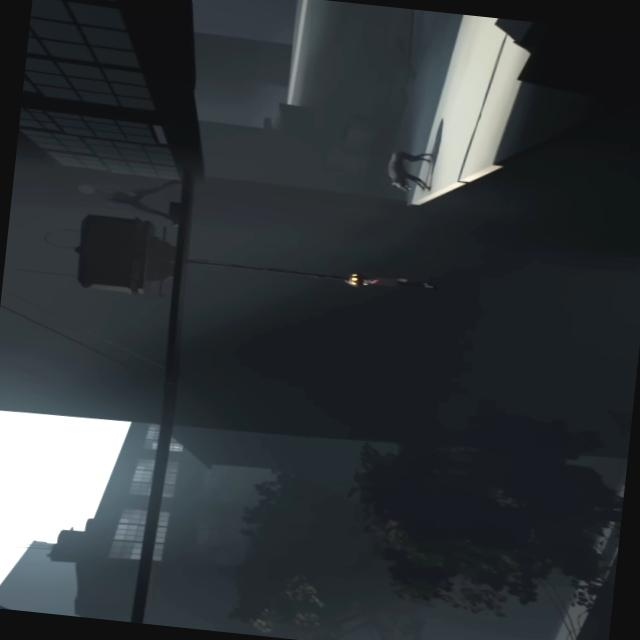boy: (358, 272, 442, 296)
